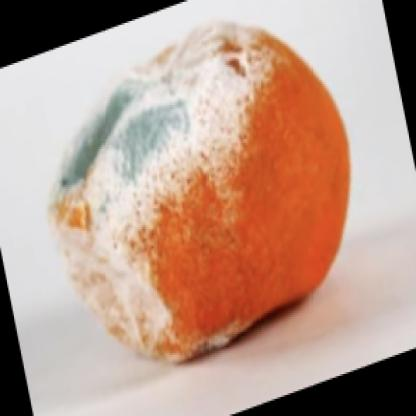rotten: (48, 26, 350, 360)
